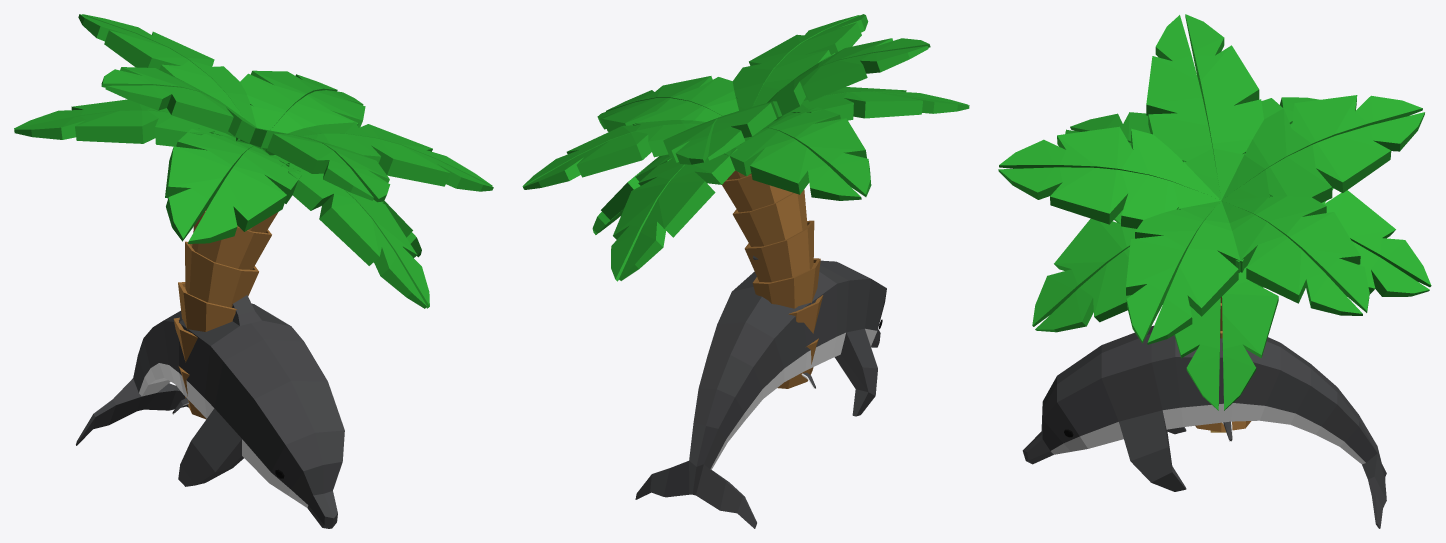
File: static.glb
3 renders of one model, left to right at view 1: azimuth 30°, elevation 25°; view 2: azimuth 150°, elevation 25°; view 3: azimuth 270°, elevation 25°, orthographic. The views are drawn at different scales.
Visible parts, largest first — view 1: PalmTree-col, Dolphin-col; view 2: PalmTree-col, Dolphin-col; view 3: PalmTree-col, Dolphin-col.
Part boxes in pixels (x1=…): PalmTree-col: x1=14, y1=14, x2=493, y2=419; Dolphin-col: x1=76, y1=295, x2=344, y2=528; PalmTree-col: x1=522, y1=14, x2=969, y2=388; Dolphin-col: x1=635, y1=255, x2=886, y2=528; PalmTree-col: x1=998, y1=14, x2=1431, y2=431; Dolphin-col: x1=1022, y1=325, x2=1386, y2=528.
Size of the model in its own units: 255 by 294 by 273.
